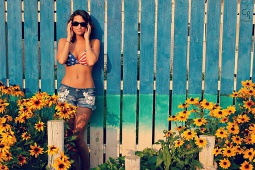female: (65, 11, 97, 38)
